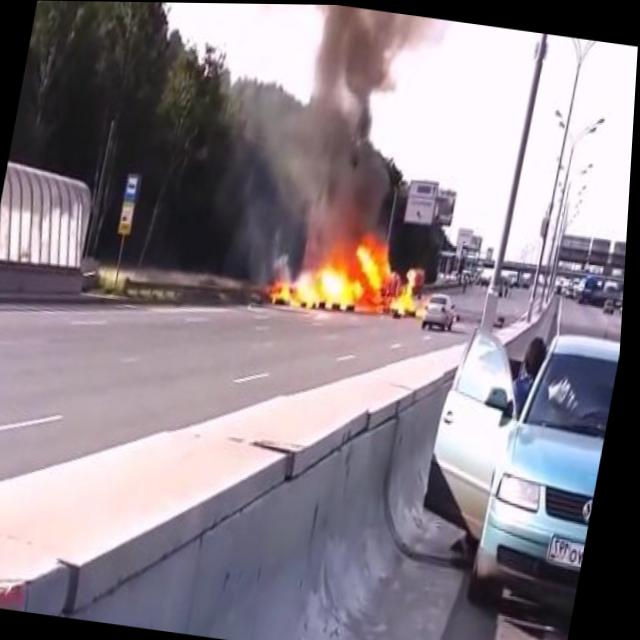fire: (261, 210, 434, 324)
